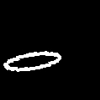chain: (4, 51, 60, 71)
